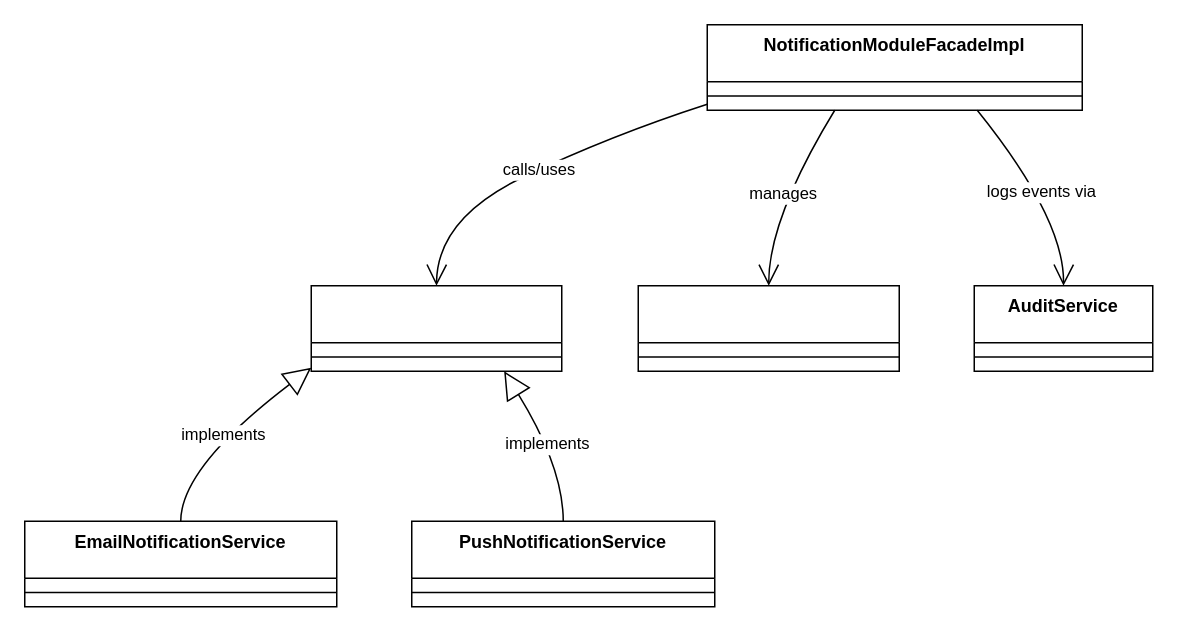
The diagram is 1178 pixels wide and 632 high, and some of its shapes have lost their labels. Each missing label, with the box of its shape:
NotificationManager: (637, 284, 899, 371)
NotificationService: (310, 284, 562, 371)
